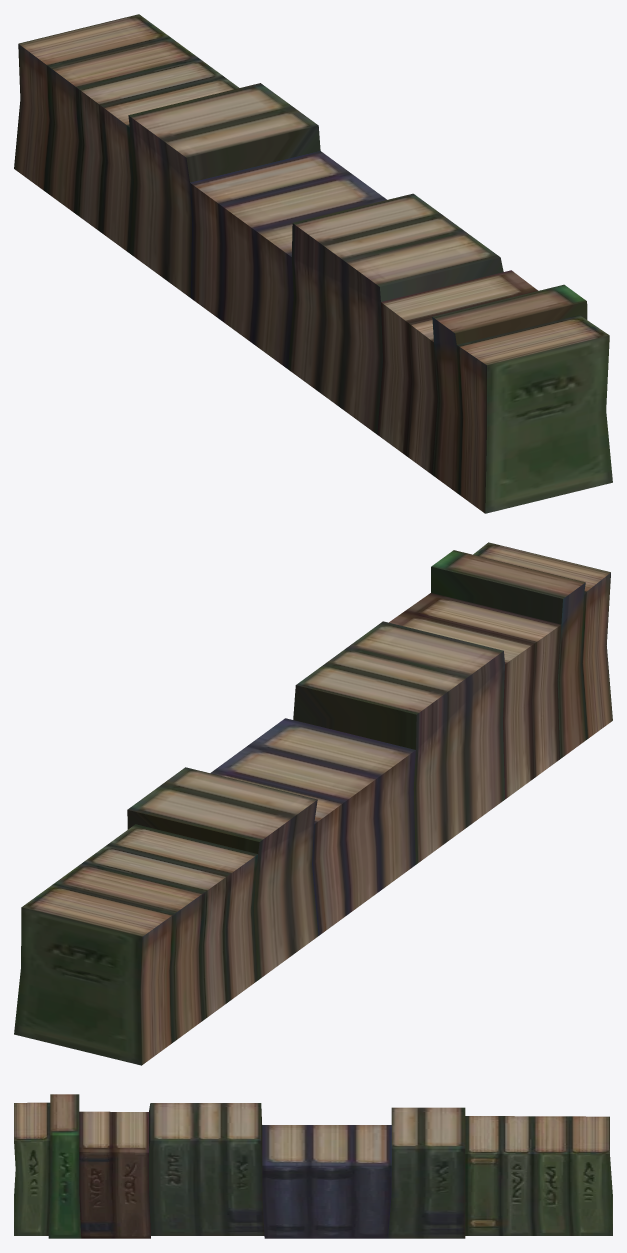
The picture shows the model from 3 angles, top to bottom: view 1: azimuth 30°, elevation 25°; view 2: azimuth 150°, elevation 25°; view 3: azimuth 270°, elevation 25°; orthographic projection. The views are drawn at different scales.
Bounding box in the file's own units: 0.4808 × 0.5346 × 2.86.
1 material, 1 textured.
